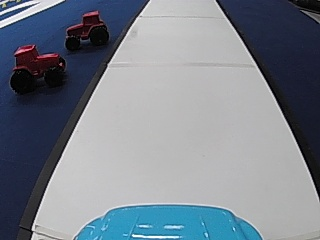Tracktor: (10, 41, 67, 94), (63, 7, 110, 49)
